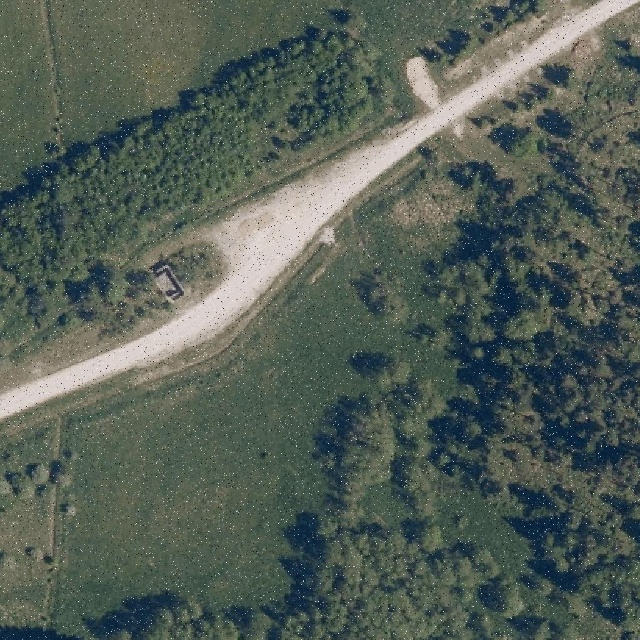vegetation: (107, 29, 640, 640), (0, 7, 396, 330), (423, 2, 539, 67)
